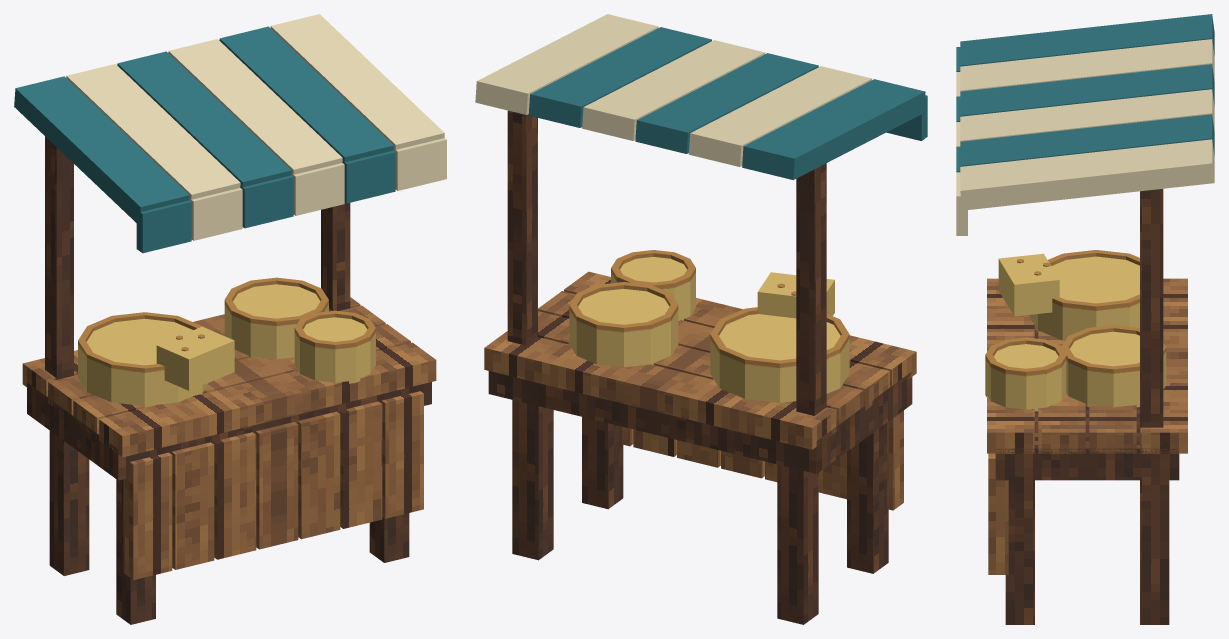
The picture shows the model from 3 angles, left to right: view 1: azimuth 30°, elevation 25°; view 2: azimuth 150°, elevation 25°; view 3: azimuth 270°, elevation 25°; orthographic projection. The views are drawn at different scales.
Visible parts, largest first — view 1: body_oak_light, body_cloth_teal, body_cream, body_wood_dark, body_oak, body_cheese, body_bread; view 2: body_wood_dark, body_cloth_teal, body_oak_light, body_cream, body_cheese, body_oak, body_bread; view 3: body_cream, body_wood_dark, body_cloth_teal, body_cheese, body_oak_light, body_oak, body_bread.
Boxes of the visible parts, left/top/right/bottom form: body_oak_light: left=22, top=297, right=436, bottom=580; body_cloth_teal: left=14, top=26, right=395, bottom=253; body_cream: left=66, top=14, right=446, bottom=240; body_wood_dark: left=27, top=136, right=431, bottom=624; body_oak: left=48, top=305, right=410, bottom=569; body_cheese: left=78, top=284, right=375, bottom=407; body_bread: left=78, top=277, right=375, bottom=372; body_wood_dark: left=488, top=110, right=912, bottom=624; body_cloth_teal: left=528, top=27, right=927, bottom=179; body_oak_light: left=484, top=271, right=916, bottom=510; body_cream: left=475, top=14, right=871, bottom=166; body_cheese: left=569, top=257, right=849, bottom=402; body_oak: left=538, top=291, right=889, bottom=499; body_bread: left=569, top=250, right=849, bottom=368; body_cream: left=956, top=39, right=1214, bottom=235; body_wood_dark: left=995, top=189, right=1179, bottom=624; body_cloth_teal: left=956, top=14, right=1214, bottom=172; body_cheese: left=985, top=253, right=1166, bottom=411; body_oak_light: left=987, top=278, right=1187, bottom=574; body_oak: left=1038, top=330, right=1136, bottom=453; body_bread: left=985, top=250, right=1166, bottom=376.
Bounding box in the file's own units: 1.25 × 1.77 × 0.8864.
Materials: 7 (3 with a texture image).
